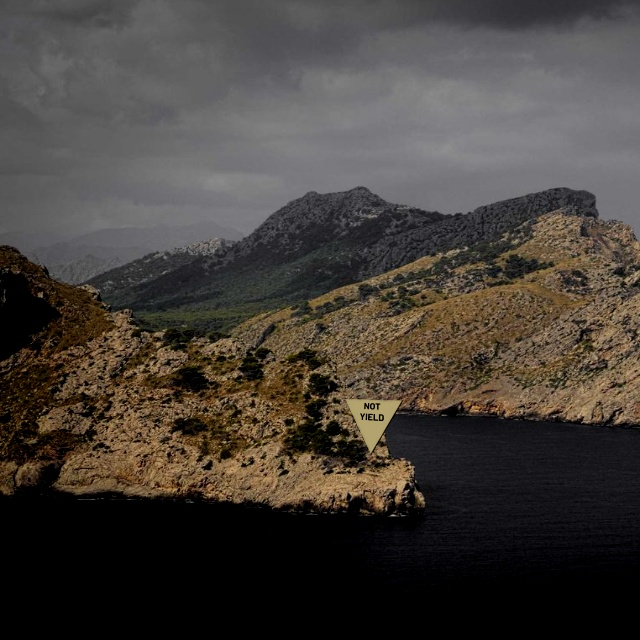NOT_YIELD: (344, 398, 403, 455)
